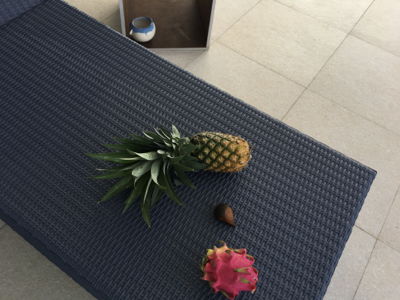dragon fruit: (200, 241, 260, 299)
pineapple: (86, 124, 252, 224)
snake fruit: (213, 203, 237, 229)
